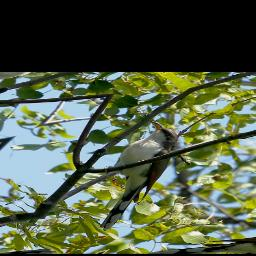Cuckoo: (18, 119, 243, 232)
